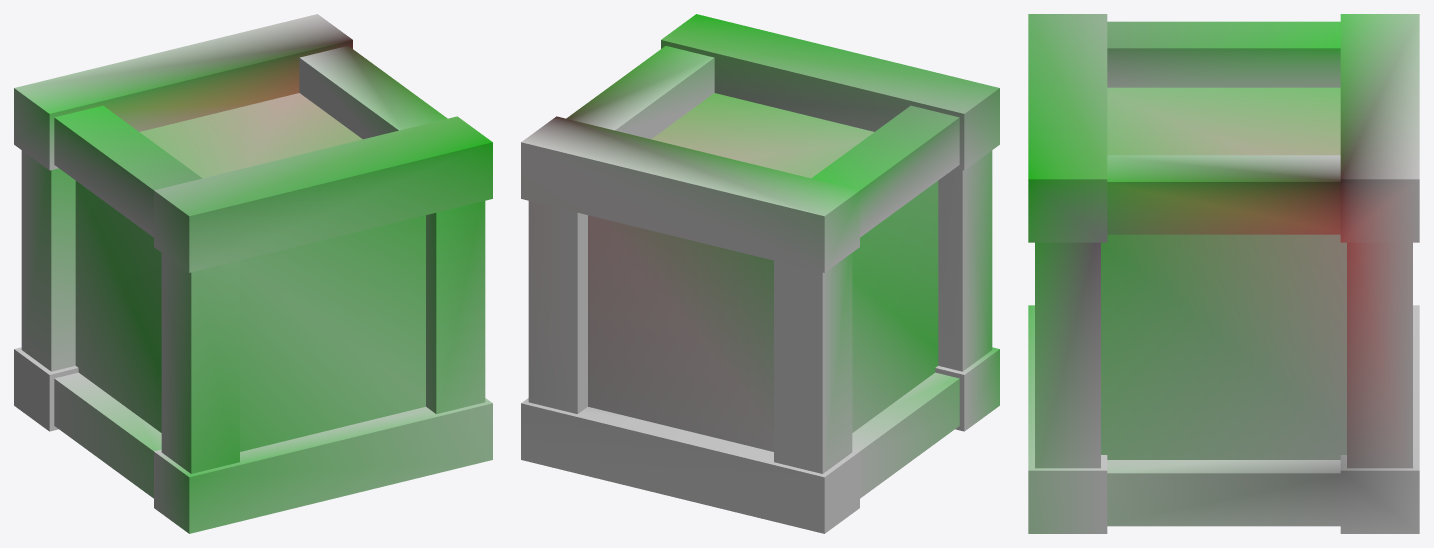
The picture shows the model from 3 angles, left to right: view 1: azimuth 30°, elevation 25°; view 2: azimuth 150°, elevation 25°; view 3: azimuth 270°, elevation 25°; orthographic projection. The views are drawn at different scales.
Parts seen in each view (by area): view 1: Box; view 2: Box; view 3: Box.
Boxes of the visible parts, bbox=[...] form: Box: bbox=[14, 14, 492, 533]; Box: bbox=[521, 14, 999, 533]; Box: bbox=[1028, 14, 1419, 533].
Size of the model in its own units: 0.5 by 0.5 by 0.5.
